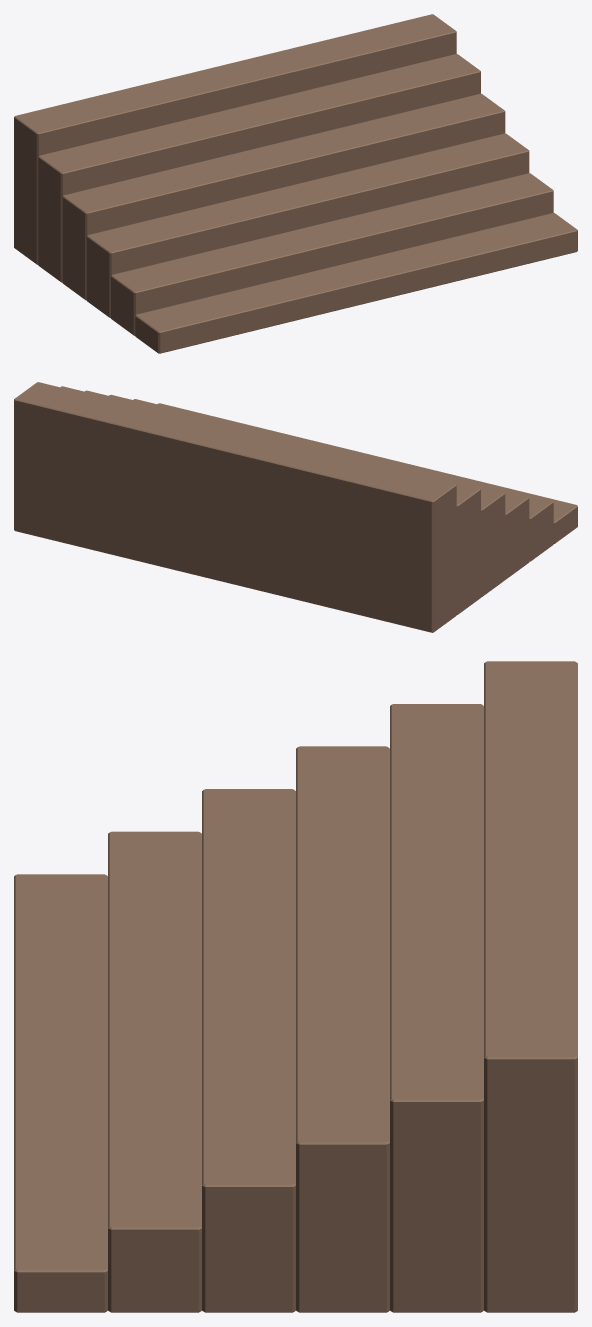
The model's file is stair-wide.glb.
3 views of the same model, one above another, from view 1: azimuth 30°, elevation 25°; view 2: azimuth 150°, elevation 25°; view 3: azimuth 270°, elevation 25° (orthographic). The views are drawn at different scales.
Visible parts, largest first — view 1: stair-wide__body; view 2: stair-wide__body; view 3: stair-wide__body.
Part boxes in pixels (bbox=[...]): stair-wide__body: bbox=[14, 14, 577, 353]; stair-wide__body: bbox=[14, 382, 577, 632]; stair-wide__body: bbox=[14, 661, 577, 1312].
Bounding box in the file's own units: 4 × 1.2 × 2.4.
